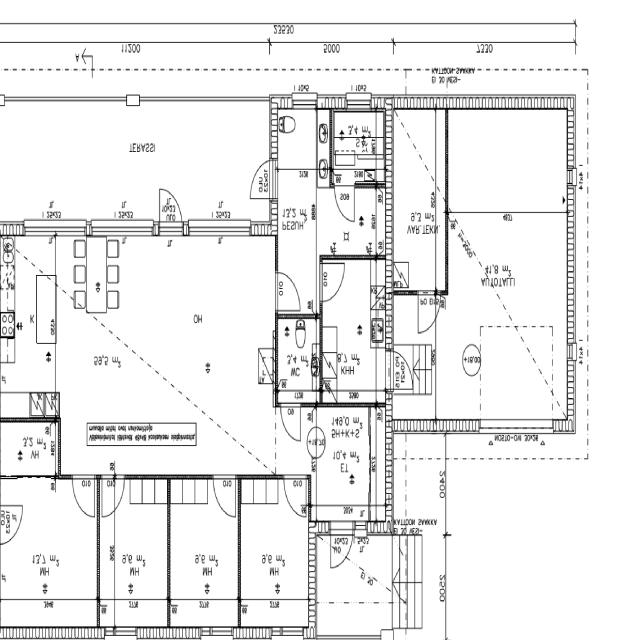door: (385, 349, 417, 389), (247, 159, 278, 199), (160, 182, 182, 235), (331, 520, 353, 572), (418, 289, 442, 334), (213, 474, 236, 520), (320, 263, 346, 302), (102, 474, 125, 518), (72, 475, 95, 518), (0, 505, 24, 545), (284, 474, 306, 517), (276, 272, 300, 310), (335, 181, 355, 222), (281, 402, 301, 442)
